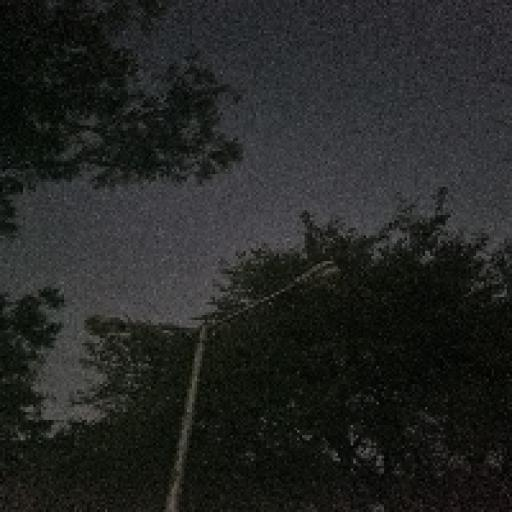Not Working: (277, 258, 347, 296)
